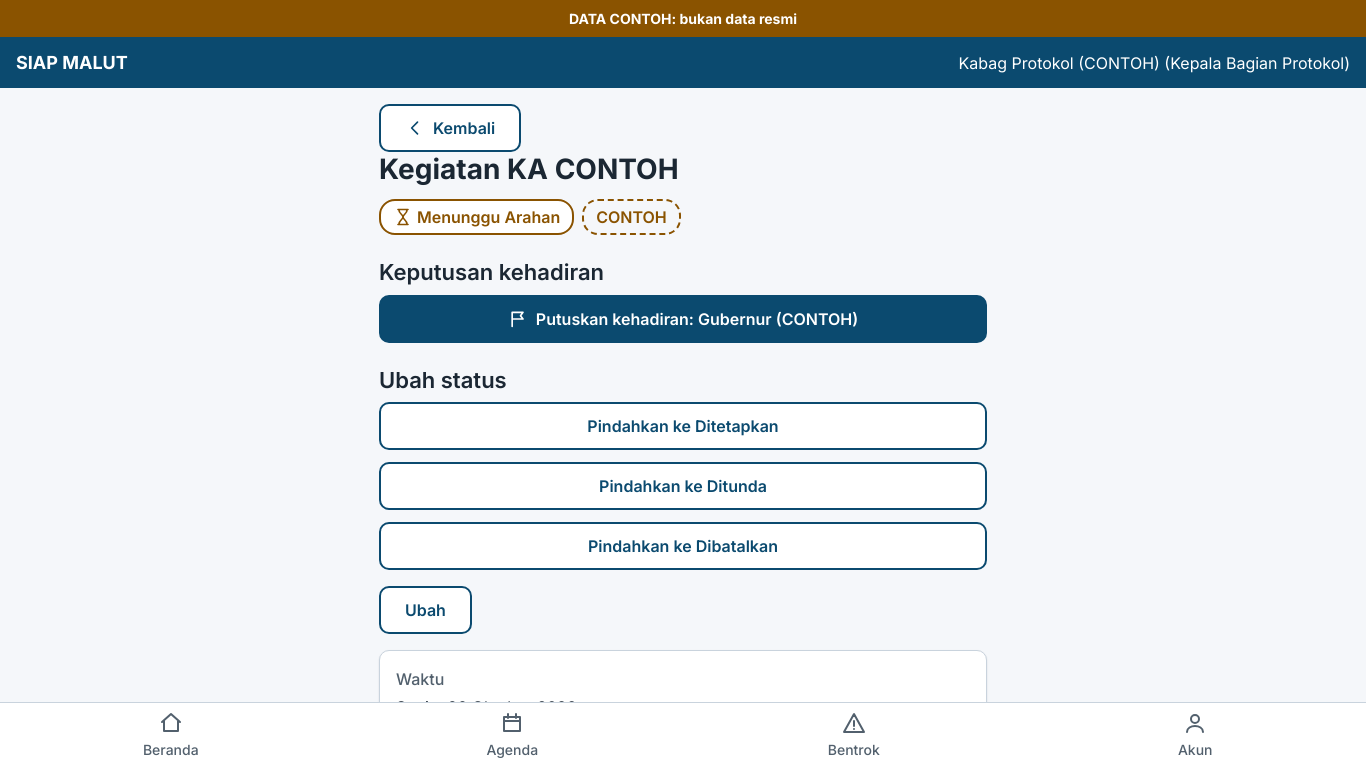
Test: KB-047 dan KB-005: keputusan kehadiran dari ponsel › KB-047: penolakan aturan (422) menampilkan rincian dan lembar tetap terbuka
Click the button "Putuskan kehadiran: Gubernur (CONTOH)": coordinates (683, 318) [379,294,987,342]
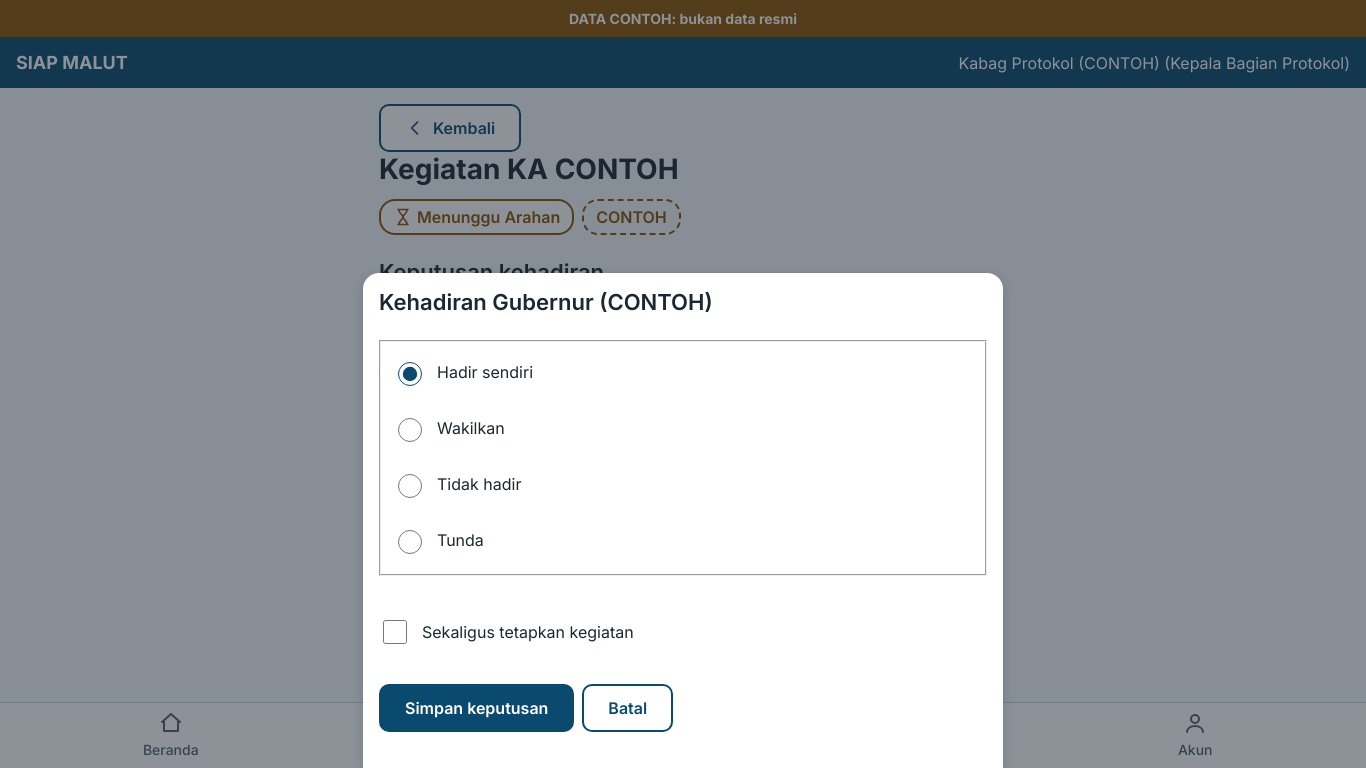
Expected: the dialog is shown, [363,273,1003,767]
Click the button "Simpan keputusan": coordinates (477, 708) [379,684,574,732]
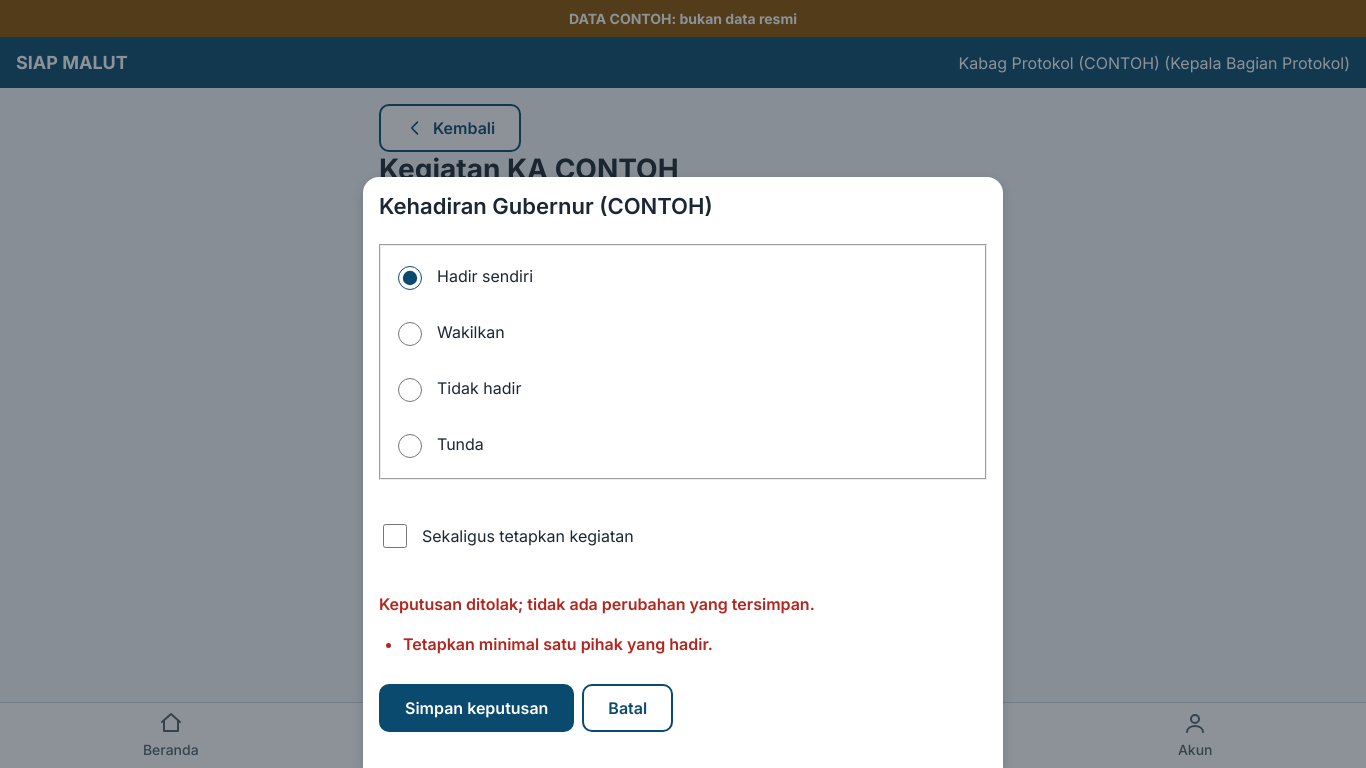
Expected: the dialog is shown, [363,177,1003,767]
Expected: the list item "Tetapkan minimal satu pihak yang hadir." is shown, [403,634,713,654]
